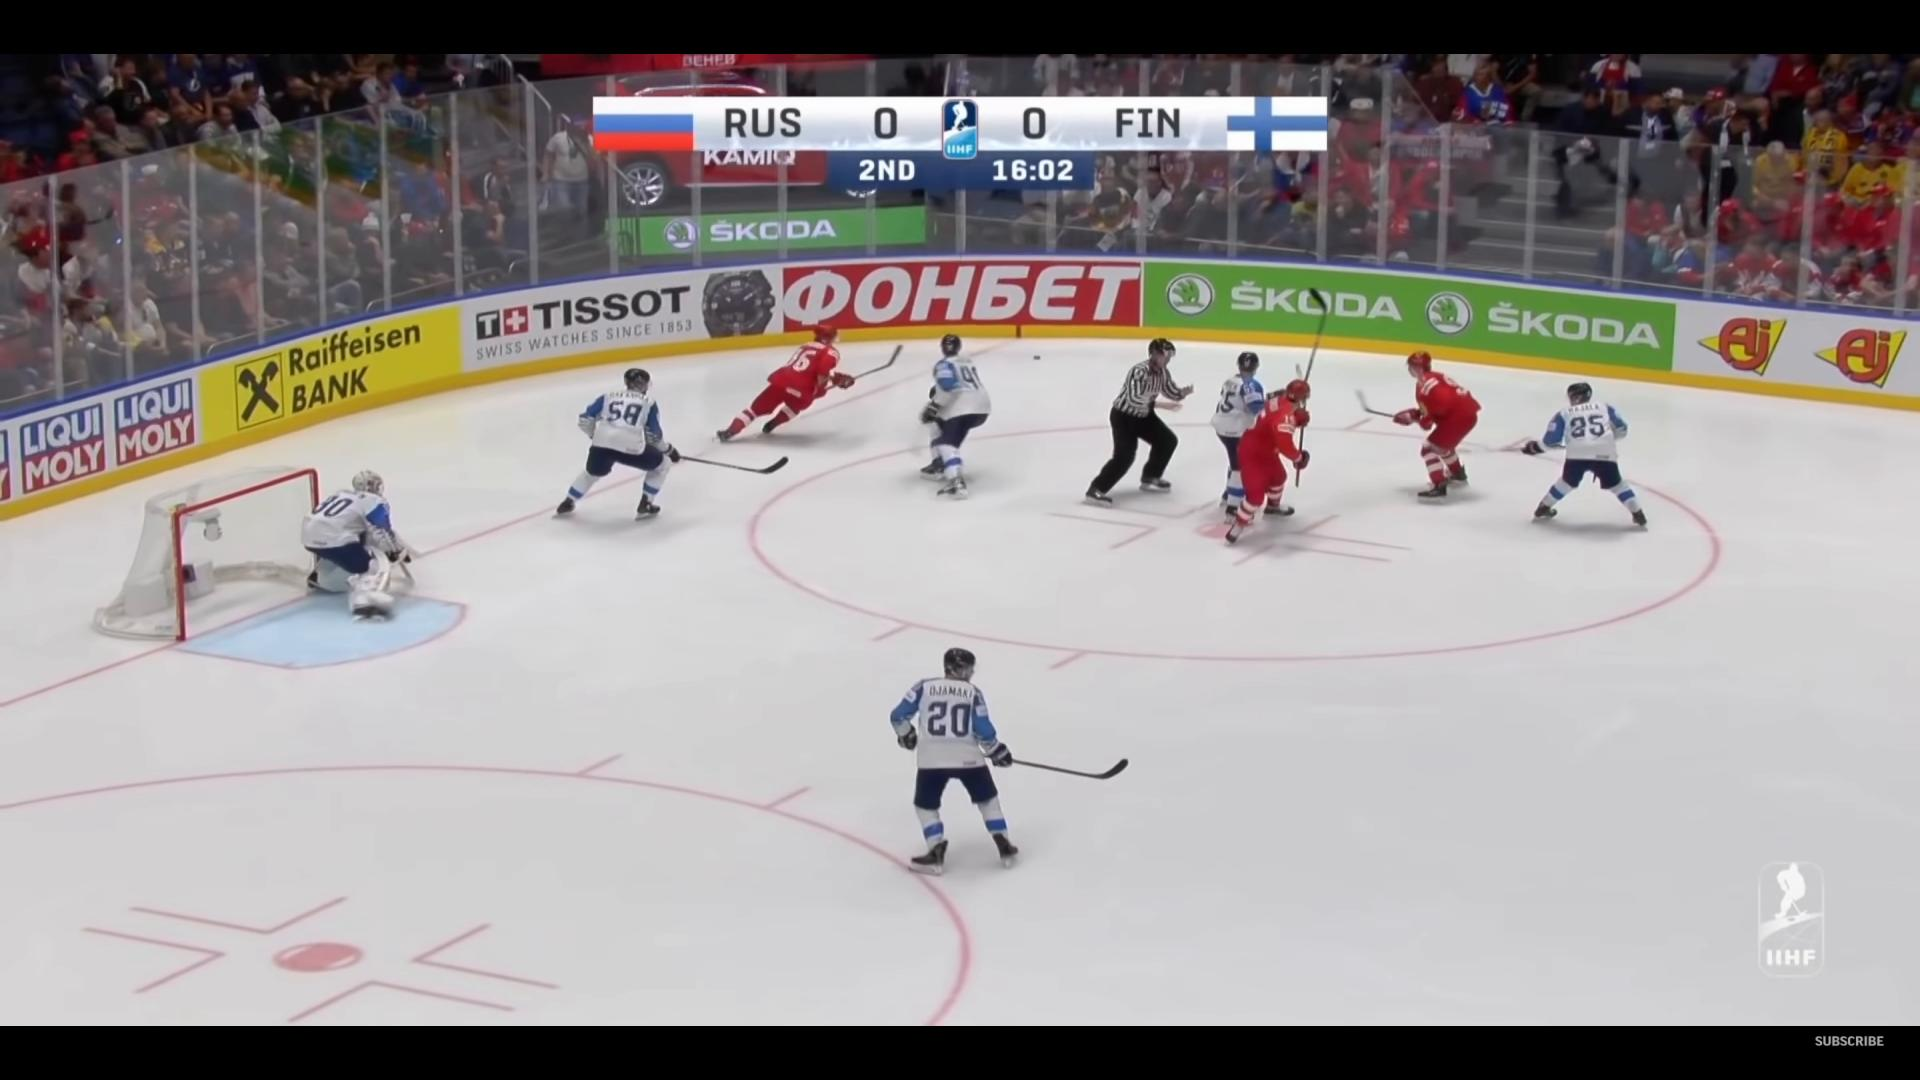puck: (1033, 355, 1040, 360)
